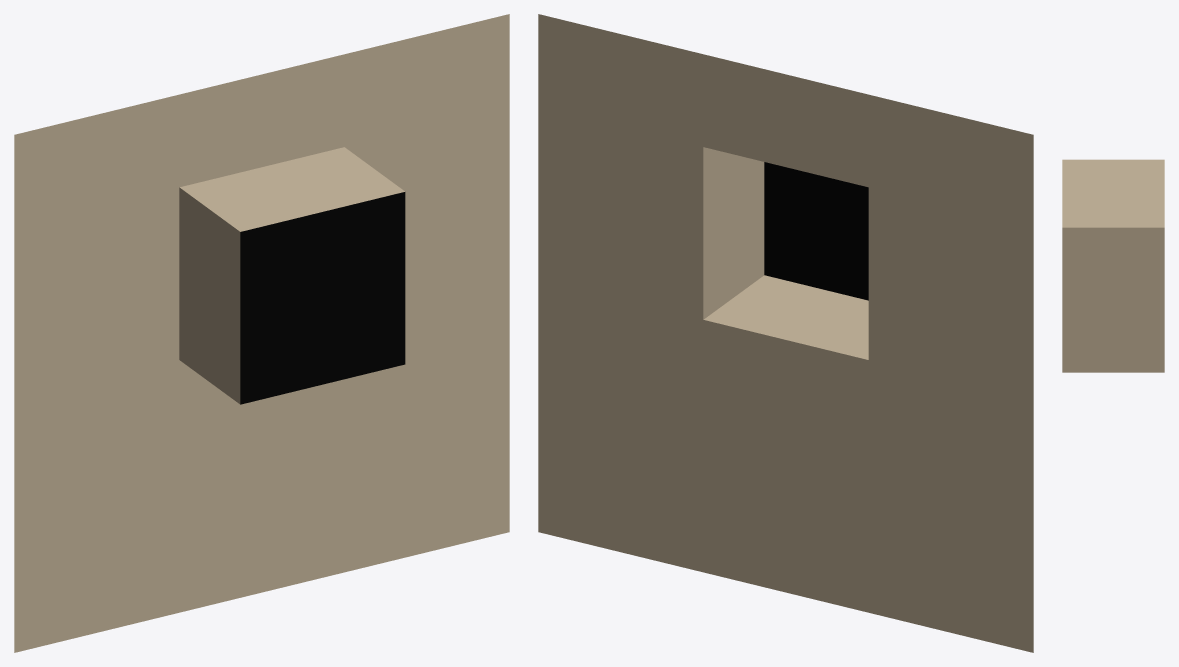
Rendered from window_01.fbx.
The picture shows the model from 3 angles, left to right: view 1: azimuth 30°, elevation 25°; view 2: azimuth 150°, elevation 25°; view 3: azimuth 270°, elevation 25°; orthographic projection. The views are drawn at different scales.
Parts seen in each view (by area): view 1: Window_Final; view 2: Window_Final; view 3: Window_Final.
Part boxes in pixels (x1,y1,x2,y2): Window_Final: (14, 14, 509, 652); Window_Final: (538, 14, 1033, 652); Window_Final: (1062, 159, 1164, 372).
Size of the model in its own units: 99.98 by 99.98 by 21.32.
